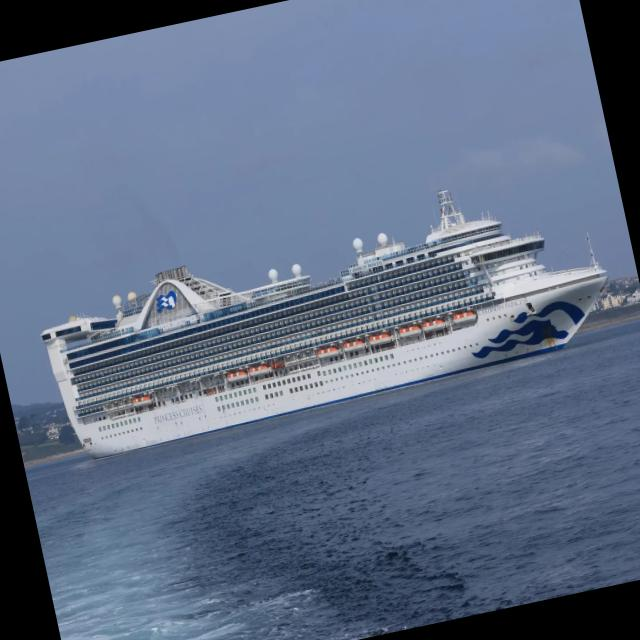Cruise: (40, 190, 607, 459)
